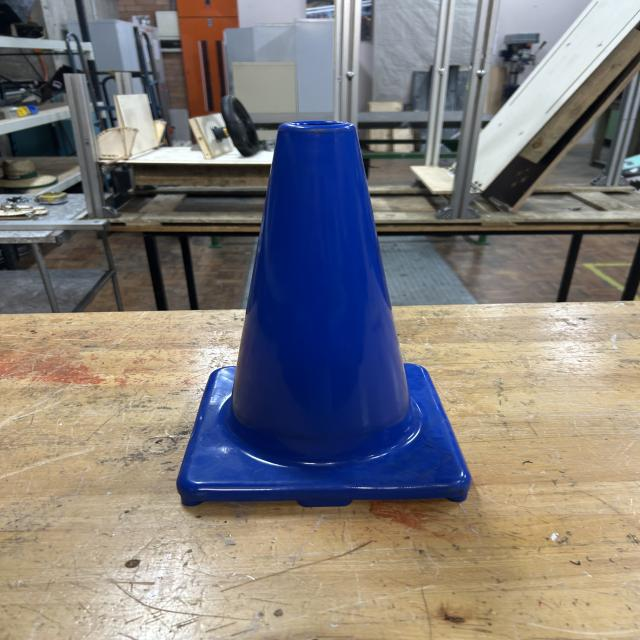blue_cone: (177, 122, 468, 500)
